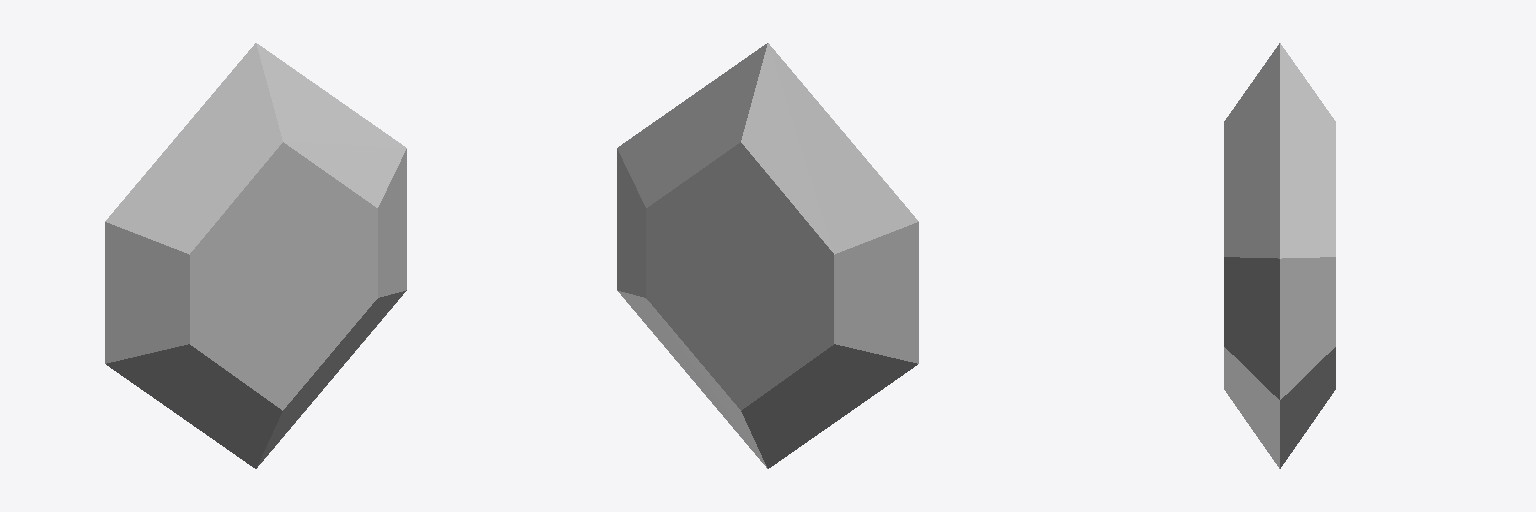
The model's file is gem1.obj.
3 renders of one model, left to right at view 1: azimuth 30°, elevation 25°; view 2: azimuth 150°, elevation 25°; view 3: azimuth 270°, elevation 25°, orthographic.
Parts seen in each view (by area): view 1: 1.92_Material.001_0; view 2: 1.92_Material.001_0; view 3: 1.92_Material.001_0.
Boxes of the visible parts, x1=… form: 1.92_Material.001_0: x1=105, y1=43, x2=406, y2=468; 1.92_Material.001_0: x1=617, y1=43, x2=918, y2=468; 1.92_Material.001_0: x1=1224, y1=43, x2=1335, y2=468.
Size of the model in its own units: 1.55 by 2.1 by 0.4939.